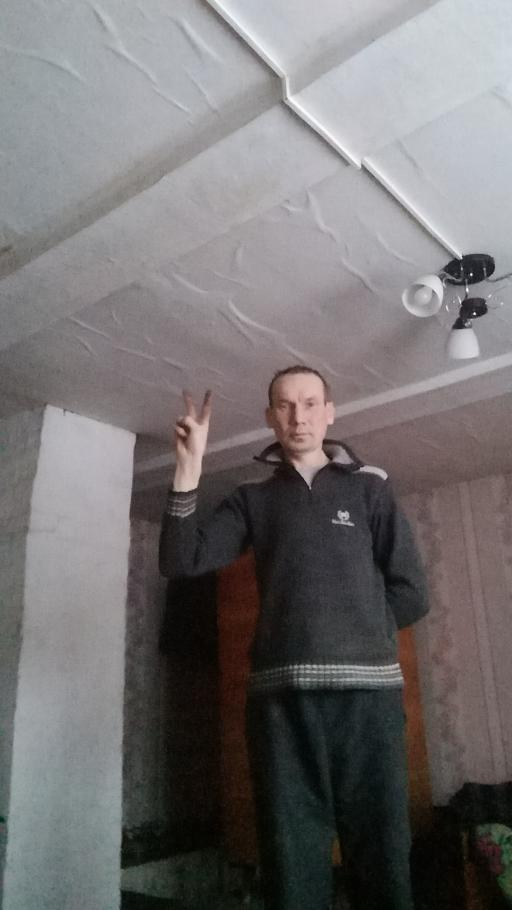peace: (170, 385, 215, 463)
